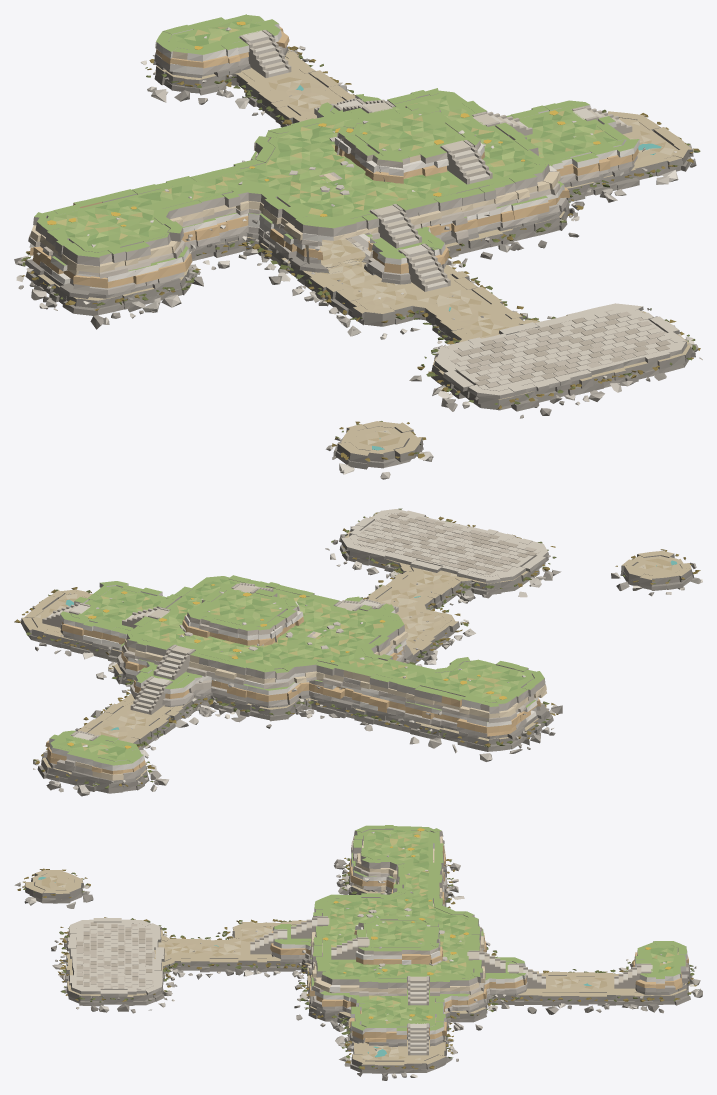
Rendered from terrain_ile_02.glb.
3 renders of one model, top to bottom at view 1: azimuth 30°, elevation 25°; view 2: azimuth 150°, elevation 25°; view 3: azimuth 270°, elevation 25°, orthographic. The views are drawn at different scales.
Visible parts, largest first — view 1: plateaux-col, estran-col, roche-col, port-col, CouvertureGrottes_plateaux-col, eboulis-col, decor, escaliers, joues-col, CouvertureGrottes_roche-col; view 2: plateaux-col, roche-col, estran-col, port-col, eboulis-col, CouvertureGrottes_plateaux-col, decor, escaliers, joues-col; view 3: plateaux-col, estran-col, roche-col, port-col, eboulis-col, decor, CouvertureGrottes_plateaux-col, joues-col, escaliers.
Boxes of the visible parts, x1=… form: plateaux-col: x1=29, y1=14, x2=639, y2=281; estran-col: x1=32, y1=49, x2=693, y2=463; roche-col: x1=25, y1=27, x2=695, y2=469; port-col: x1=24, y1=47, x2=687, y2=399; CouvertureGrottes_plateaux-col: x1=243, y1=134, x2=424, y2=248; eboulis-col: x1=14, y1=27, x2=702, y2=479; decor: x1=21, y1=21, x2=700, y2=461; escaliers: x1=242, y1=30, x2=627, y2=290; joues-col: x1=239, y1=30, x2=632, y2=291; CouvertureGrottes_roche-col: x1=308, y1=140, x2=421, y2=255; plateaux-col: x1=48, y1=575, x2=545, y2=770; roche-col: x1=26, y1=545, x2=694, y2=793; estran-col: x1=21, y1=512, x2=692, y2=788; port-col: x1=46, y1=509, x2=548, y2=784; eboulis-col: x1=19, y1=516, x2=702, y2=796; CouvertureGrottes_plateaux-col: x1=271, y1=598, x2=403, y2=660; decor: x1=14, y1=508, x2=700, y2=788; escaliers: x1=46, y1=584, x2=379, y2=740; joues-col: x1=42, y1=582, x2=398, y2=740; plateaux-col: x1=272, y1=825, x2=687, y2=1034; estran-col: x1=24, y1=870, x2=690, y2=1070; roche-col: x1=29, y1=836, x2=692, y2=1073; port-col: x1=67, y1=867, x2=689, y2=1046; eboulis-col: x1=14, y1=832, x2=702, y2=1080; decor: x1=17, y1=828, x2=696, y2=1069; CouvertureGrottes_plateaux-col: x1=306, y1=895, x2=419, y2=943; joues-col: x1=250, y1=916, x2=651, y2=1055; escaliers: x1=250, y1=918, x2=652, y2=1055.
Size of what is drawn, in the model's own units: 91.71 by 10.66 by 119.
